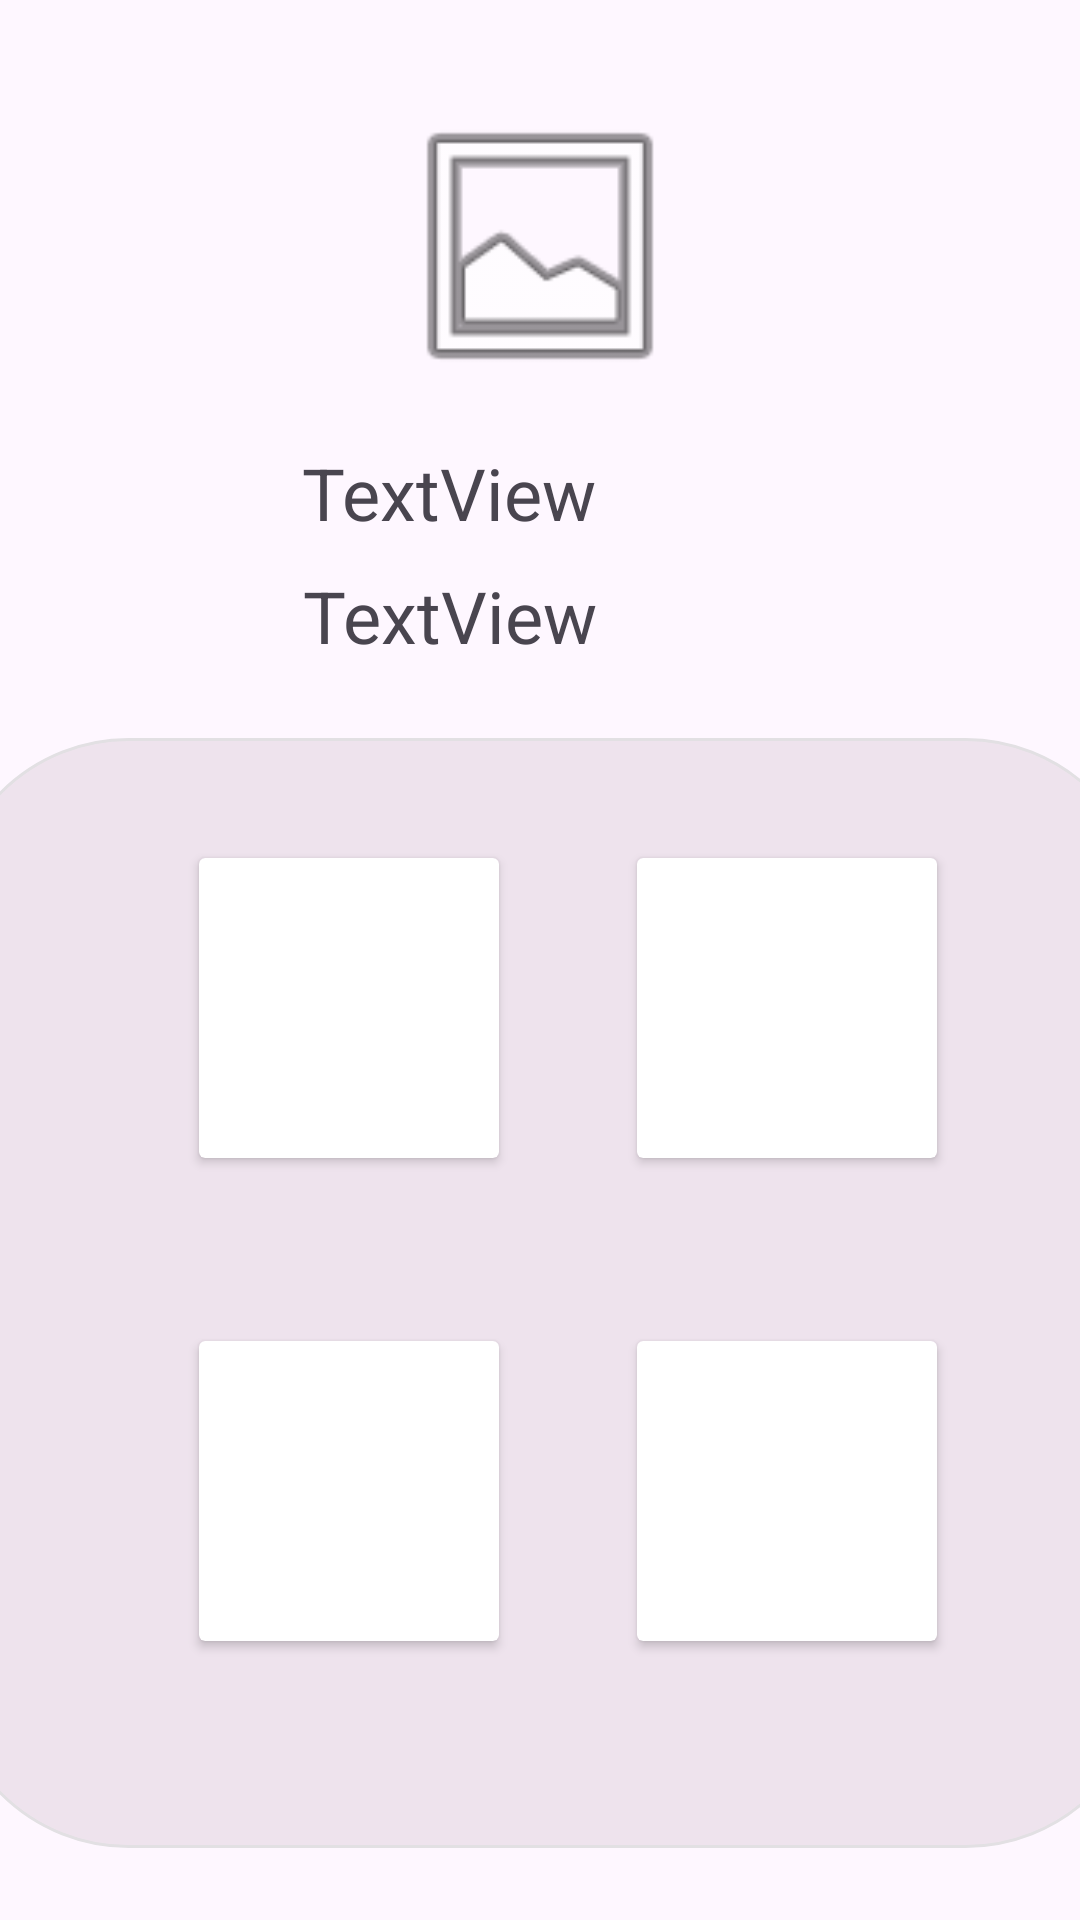

Screen size 1080w x 1920h. Icon name, then its center in pixels as (x,y):
gallery: (540,246)
